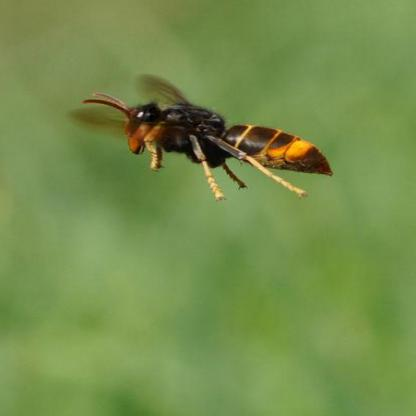asian: (62, 66, 351, 236)
